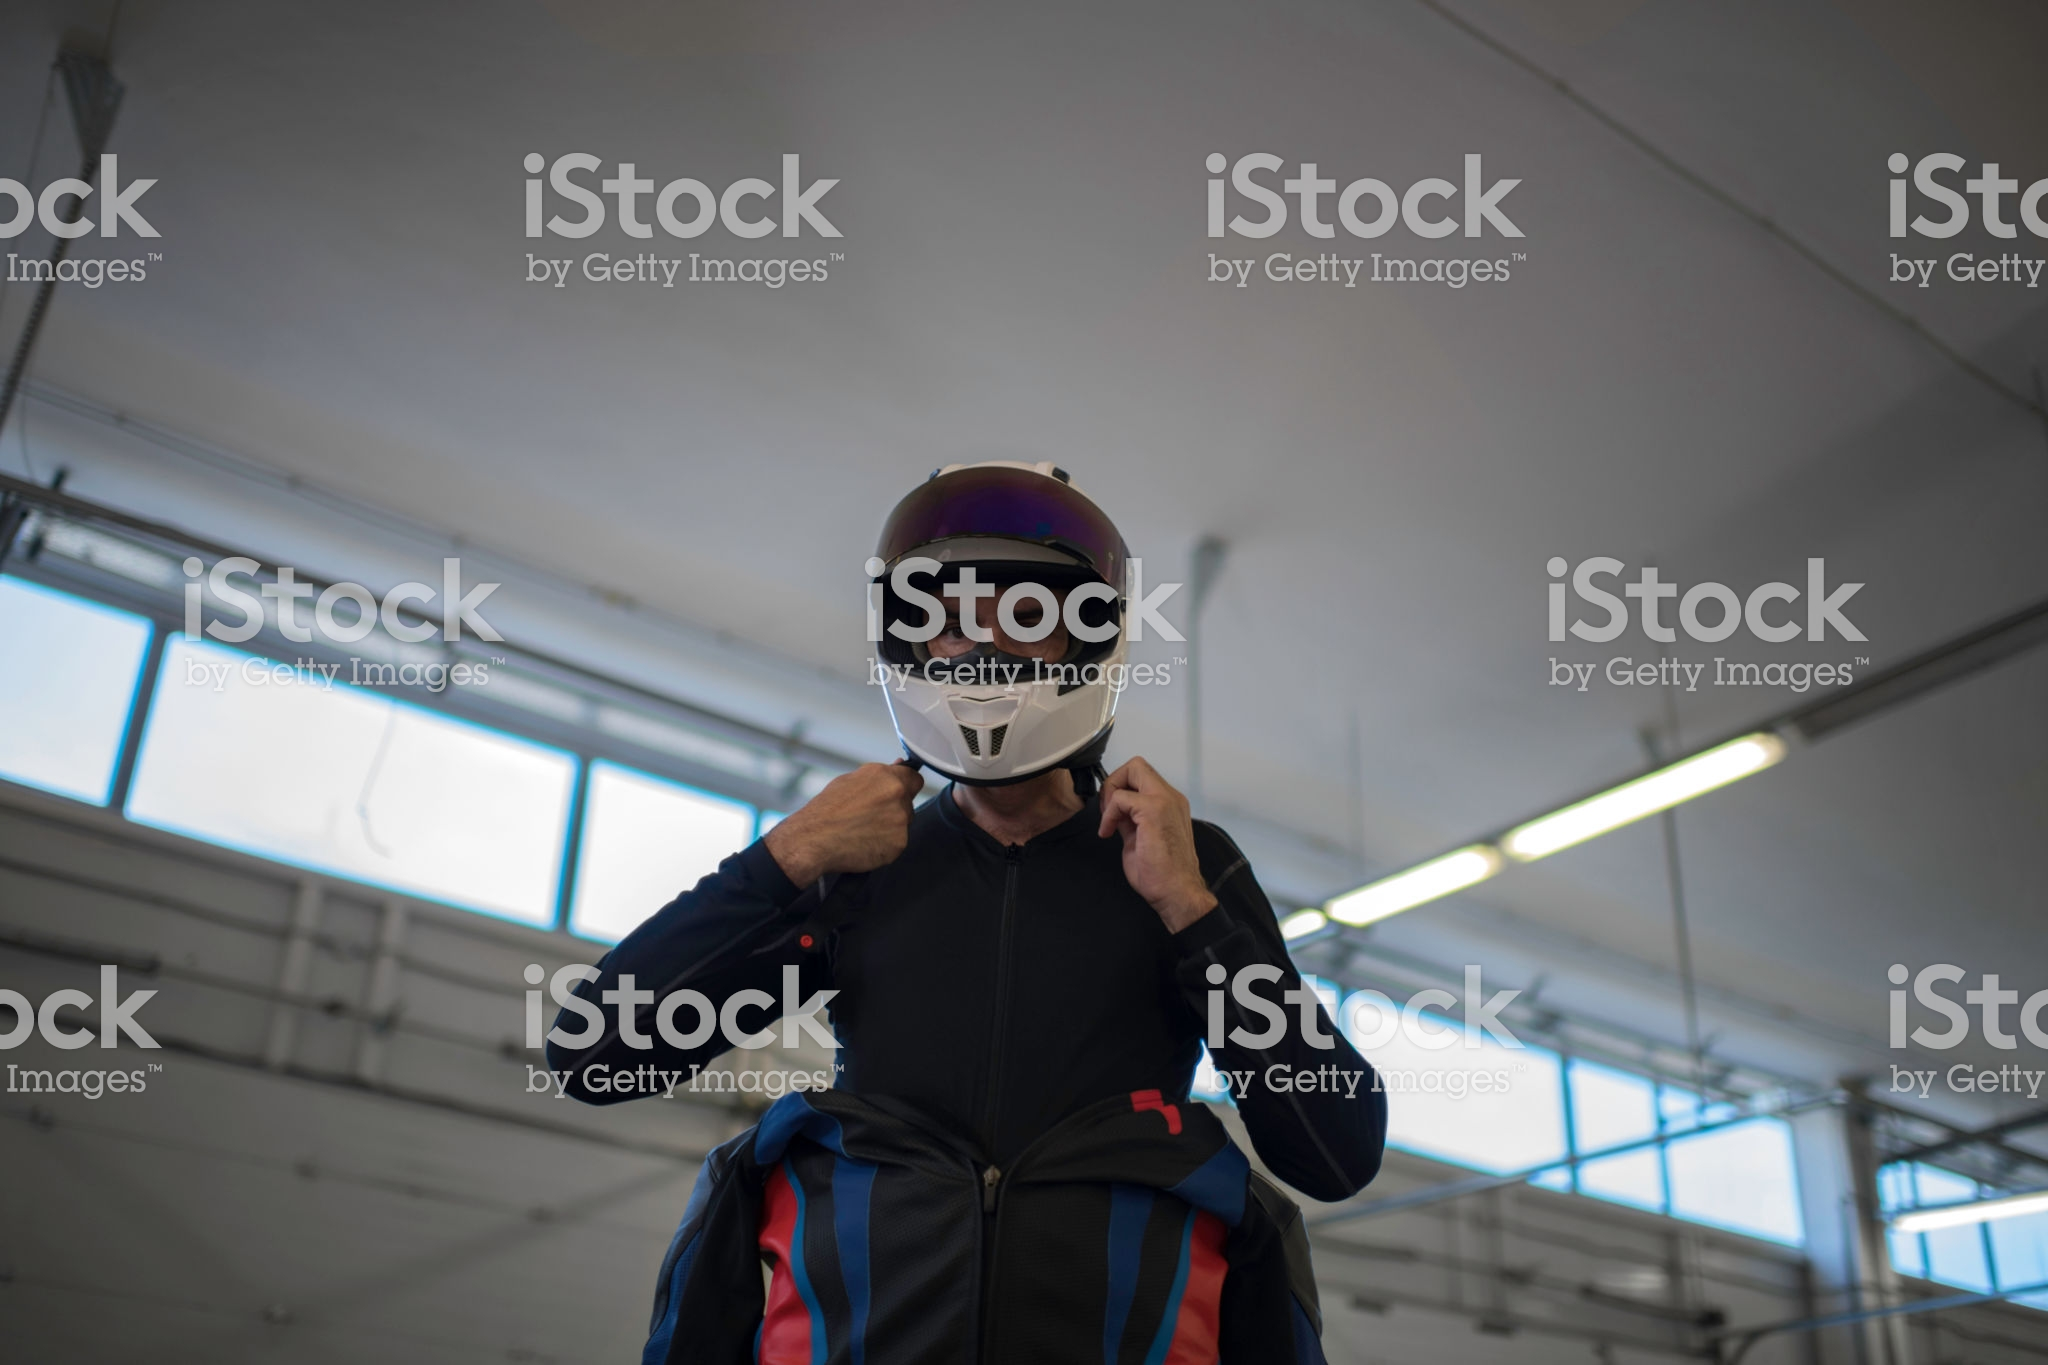helmet: (841, 448, 1109, 766)
